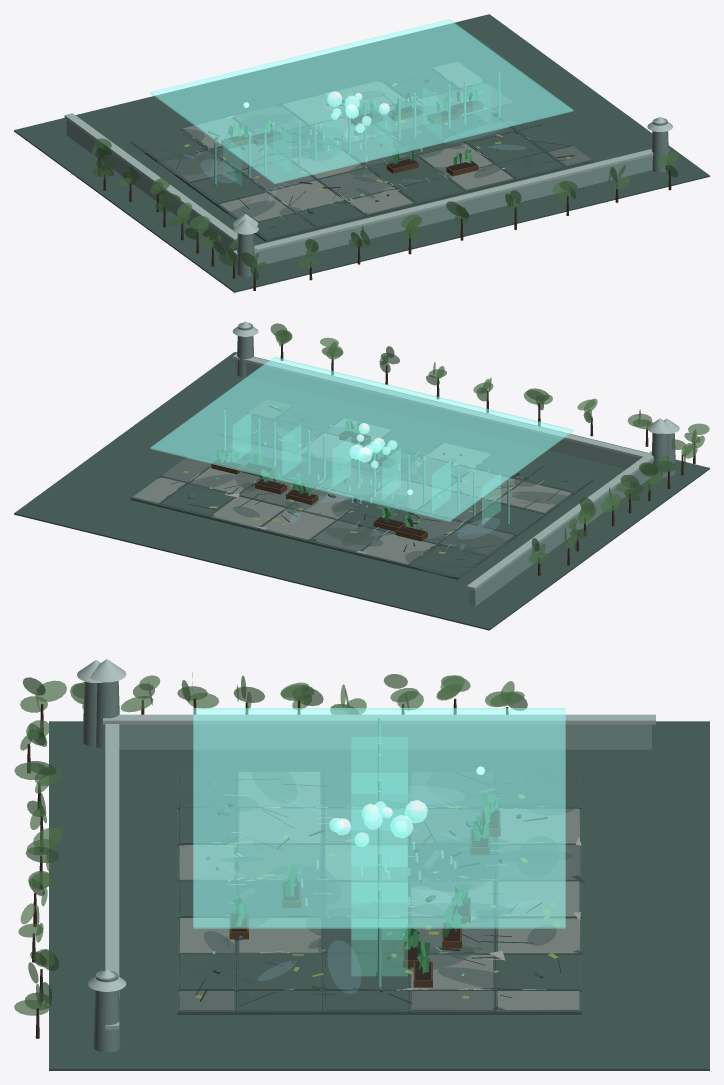
The model's file is crystal-greenhouse.high.glb.
The picture shows the model from 3 angles, top to bottom: view 1: azimuth 30°, elevation 25°; view 2: azimuth 150°, elevation 25°; view 3: azimuth 270°, elevation 25°; orthographic projection. The views are drawn at different scales.
Parts seen in each view (by area): view 1: terrain_skirt_blended_ground, greenhouse_glass_roof, individual_settled_beveled_floor_tile (×35), irregular_moss_mud_ground_patch (×11), campus_perimeter_wall_far, authored_floor_slab, campus_wall_far_capstone, campus_perimeter_wall_west, campus_wall_west_capstone, distant_academy_round_tower (×2), greenhouse_glass_panel; view 2: terrain_skirt_blended_ground, greenhouse_glass_roof, individual_settled_beveled_floor_tile (×33), irregular_moss_mud_ground_patch (×10), campus_perimeter_wall_far, authored_floor_slab, campus_wall_far_capstone, campus_perimeter_wall_west, campus_wall_west_capstone, distant_academy_round_tower (×2), thin_moonlit_wet_puddle, greenhouse_glass_panel; view 3: terrain_skirt_blended_ground, greenhouse_glass_roof, individual_settled_beveled_floor_tile (×35), irregular_moss_mud_ground_patch (×17), campus_perimeter_wall_west, authored_floor_slab, campus_wall_west_capstone, campus_wall_far_capstone, distant_academy_round_tower (×3), greenhouse_glass_panel, thin_moonlit_wet_puddle.
Boxes of the visible parts, x1=… form: terrain_skirt_blended_ground: x1=14, y1=14, x2=709, y2=292; greenhouse_glass_roof: x1=150, y1=19, x2=573, y2=183; individual_settled_beveled_floor_tile (×35): x1=133, y1=61, x2=591, y2=238; irregular_moss_mud_ground_patch (×11): x1=124, y1=111, x2=499, y2=230; campus_perimeter_wall_far: x1=235, y1=155, x2=652, y2=268; authored_floor_slab: x1=130, y1=61, x2=593, y2=241; campus_wall_far_capstone: x1=233, y1=149, x2=669, y2=256; campus_perimeter_wall_west: x1=66, y1=119, x2=236, y2=256; campus_wall_west_capstone: x1=64, y1=113, x2=257, y2=251; distant_academy_round_tower (×2): x1=237, y1=118, x2=668, y2=277; greenhouse_glass_panel: x1=223, y1=146, x2=241, y2=186; terrain_skirt_blended_ground: x1=14, y1=352, x2=709, y2=630; greenhouse_glass_roof: x1=150, y1=357, x2=573, y2=521; individual_settled_beveled_floor_tile (×33): x1=133, y1=406, x2=590, y2=576; irregular_moss_mud_ground_patch (×10): x1=175, y1=450, x2=579, y2=577; campus_perimeter_wall_far: x1=235, y1=359, x2=663, y2=477; authored_floor_slab: x1=130, y1=399, x2=593, y2=579; campus_wall_far_capstone: x1=233, y1=353, x2=668, y2=462; campus_perimeter_wall_west: x1=469, y1=460, x2=653, y2=606; campus_wall_west_capstone: x1=466, y1=451, x2=653, y2=590; distant_academy_round_tower (×2): x1=237, y1=323, x2=667, y2=478; thin_moonlit_wet_puddle: x1=457, y1=518, x2=499, y2=539; greenhouse_glass_panel: x1=482, y1=484, x2=500, y2=523; terrain_skirt_blended_ground: x1=49, y1=721, x2=709, y2=1070; greenhouse_glass_roof: x1=193, y1=708, x2=565, y2=928; individual_settled_beveled_floor_tile (×35): x1=179, y1=771, x2=579, y2=1010; irregular_moss_mud_ground_patch (×17): x1=176, y1=760, x2=591, y2=991; campus_perimeter_wall_west: x1=119, y1=724, x2=651, y2=749; authored_floor_slab: x1=177, y1=772, x2=581, y2=1014; campus_wall_west_capstone: x1=103, y1=714, x2=655, y2=724; campus_wall_far_capstone: x1=105, y1=724, x2=119, y2=1029; distant_academy_round_tower (×3): x1=82, y1=680, x2=120, y2=1052; greenhouse_glass_panel: x1=351, y1=928, x2=407, y2=975; thin_moonlit_wet_puddle: x1=328, y1=940, x2=360, y2=993.
Size of the model in its own units: 30.82 by 4.01 by 25.8.
